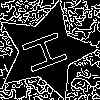H: (20, 25, 78, 75)
